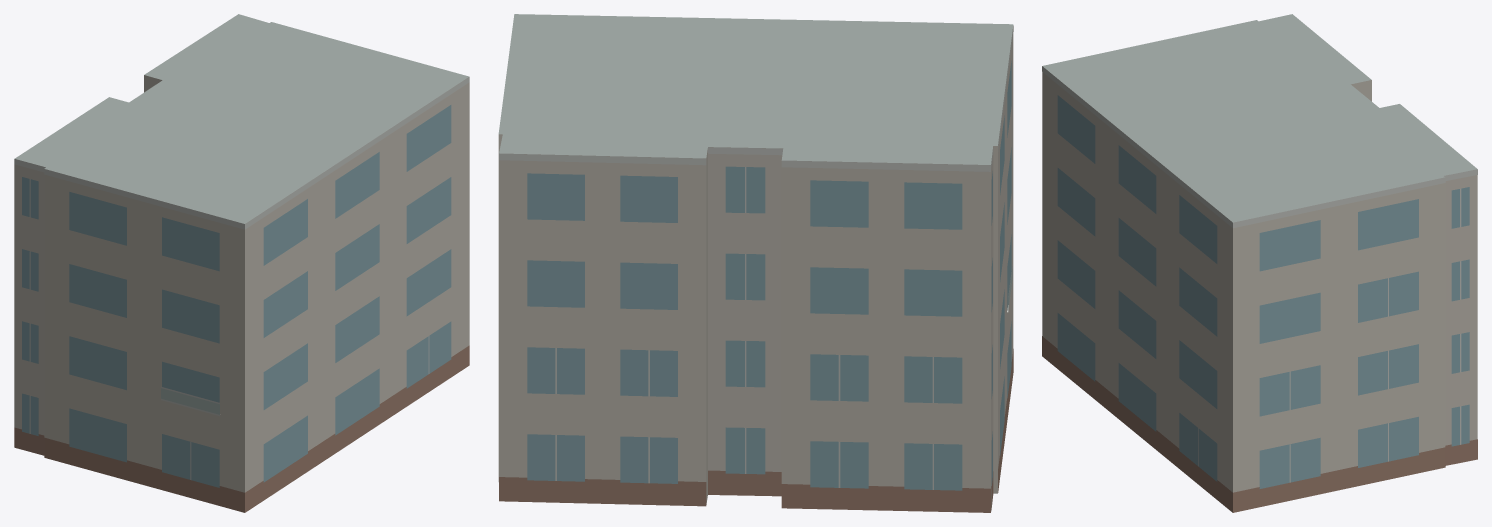
File: survey-upis-32822704.glb
3 renders of one model, left to right at view 1: azimuth 30°, elevation 25°; view 2: azimuth 150°, elevation 25°; view 3: azimuth 270°, elevation 25°, orthographic. The views are drawn at different scales.
Parts seen in each view (by area): view 1: survey-upis-32822704.tmp; view 2: survey-upis-32822704.tmp; view 3: survey-upis-32822704.tmp.
Boxes of the visible parts, x1,y1,x2,y2 form: survey-upis-32822704.tmp: (14,14,469,512); survey-upis-32822704.tmp: (498,14,1013,512); survey-upis-32822704.tmp: (1042,14,1477,512).
Bounding box in the file's own units: 19.28 × 12.5 × 17.01.
